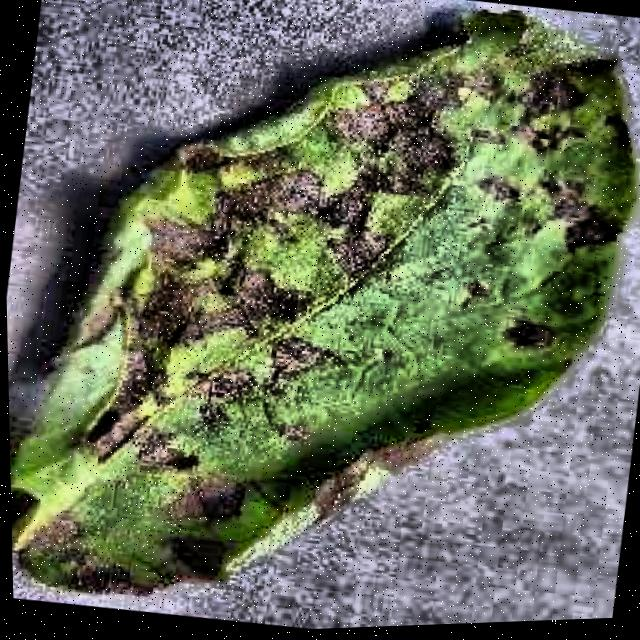Potato_leaf_early_blight: (14, 10, 638, 591)
